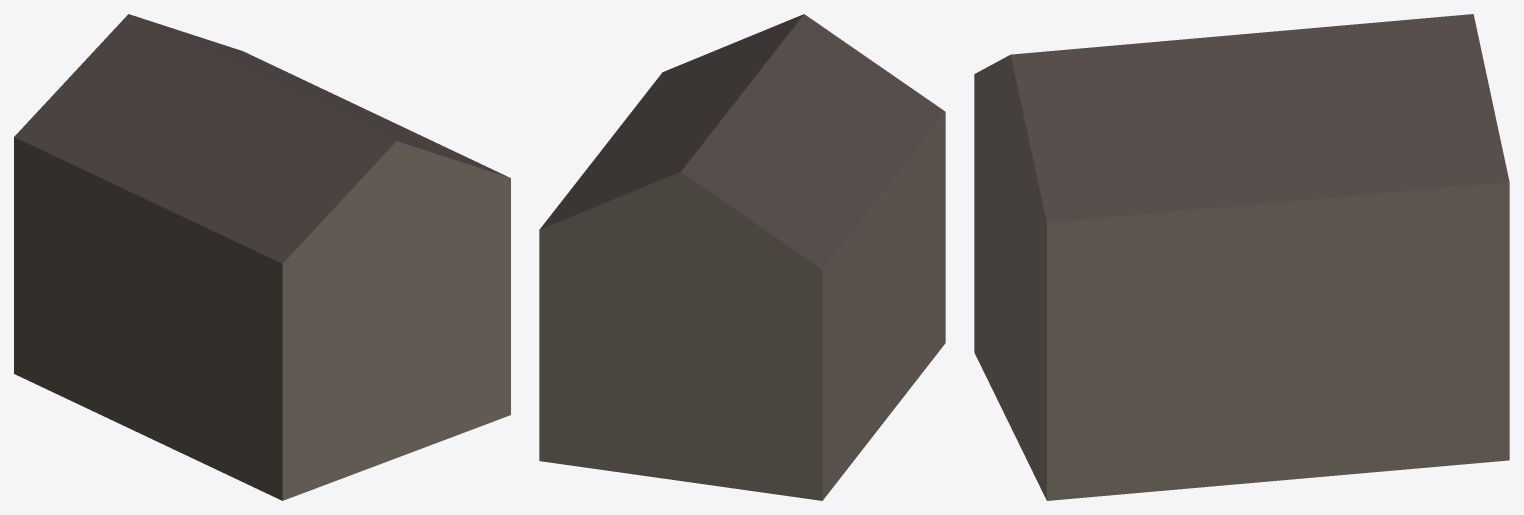
3 views of the same model, side by side, from view 1: azimuth 30°, elevation 25°; view 2: azimuth 150°, elevation 25°; view 3: azimuth 270°, elevation 25° (orthographic). The views are drawn at different scales.
Parts seen in each view (by area): view 1: HP-w389701814; view 2: HP-w389701814; view 3: HP-w389701814.
Boxes of the visible parts, bbox=[...] form: HP-w389701814: bbox=[14, 14, 510, 500]; HP-w389701814: bbox=[539, 14, 945, 500]; HP-w389701814: bbox=[974, 14, 1509, 500].
Bounding box in the file's own units: 8.76 × 8.03 × 10.47.
